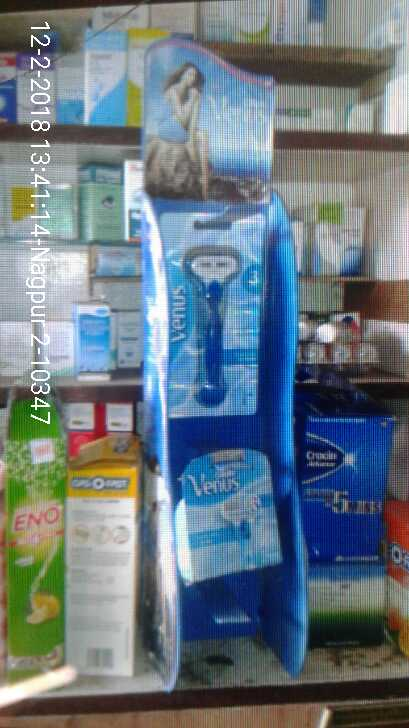venus: (159, 212, 261, 422), (177, 451, 286, 579)
